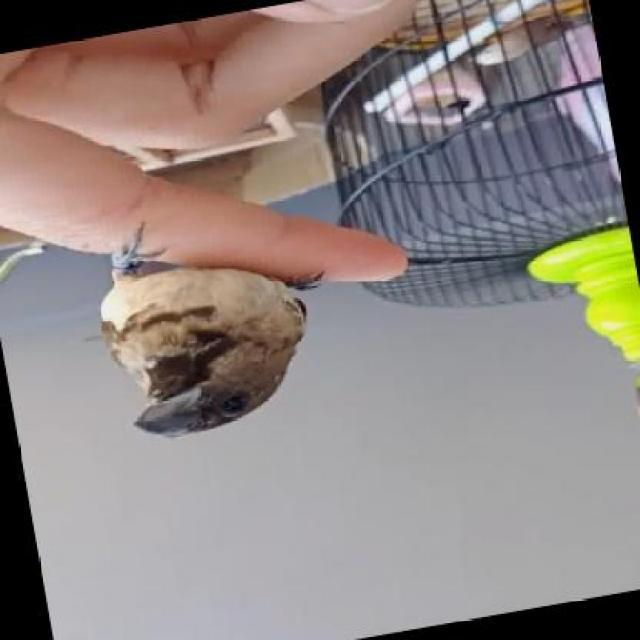Bird: (94, 245, 330, 471)
